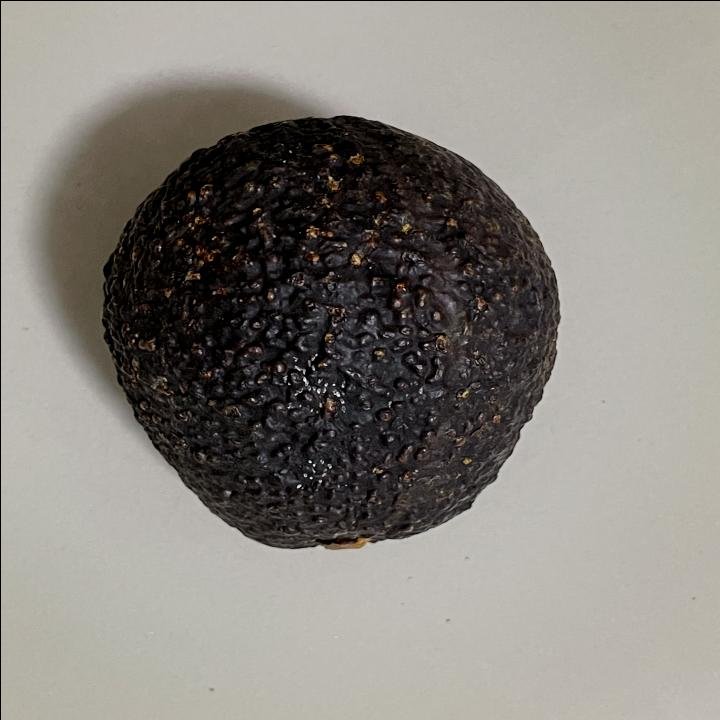Level3: (88, 107, 574, 561)
